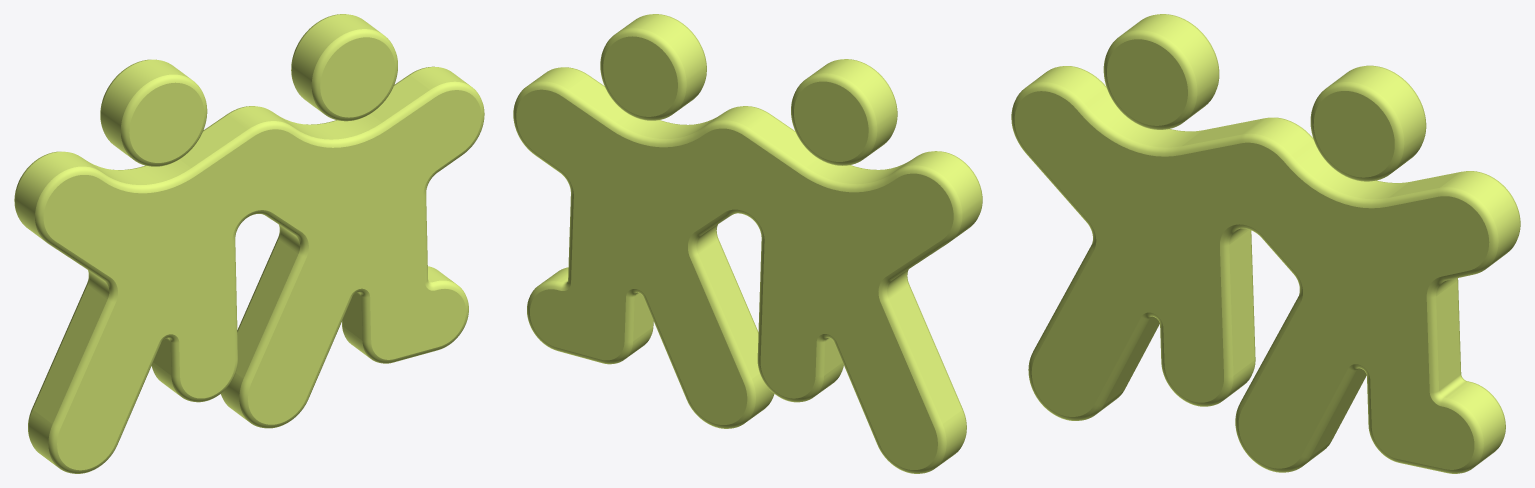
File: mentest.glb
The picture shows the model from 3 angles, left to right: view 1: azimuth 30°, elevation 25°; view 2: azimuth 150°, elevation 25°; view 3: azimuth 330°, elevation 25°; orthographic projection. The views are drawn at different scales.
Parts seen in each view (by area): view 1: PA_MEN.ai; view 2: PA_MEN.ai; view 3: PA_MEN.ai.
Boxes of the visible parts, x1,y1,x2,y2 form: PA_MEN.ai: (14,14,484,473); PA_MEN.ai: (513,14,982,473); PA_MEN.ai: (1011,14,1520,473).
Bounding box in the file's own units: 1.69 × 1.37 × 0.1833.
